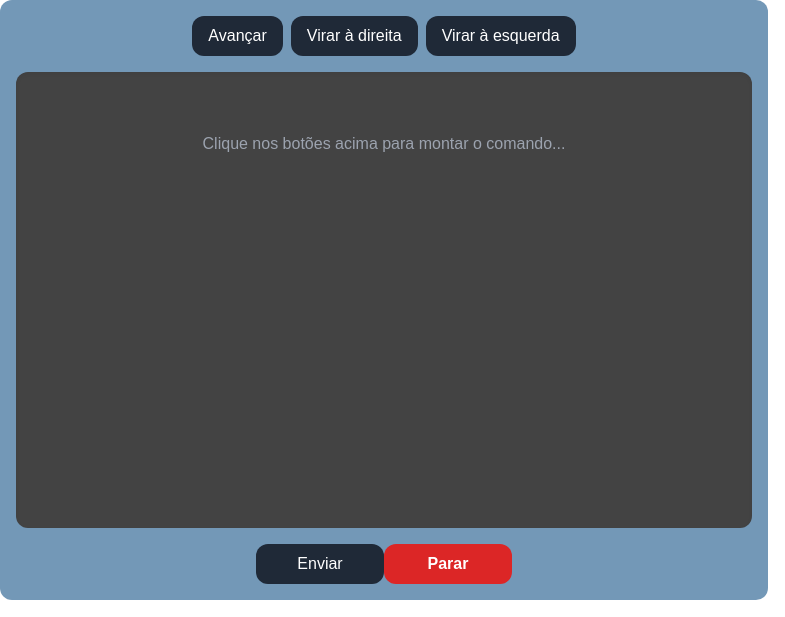
Test case: CommandPanel › adiciona blocos corretamente
The image size is (785, 617).
Note: Adiciona os três tipos de bloco
Click the button "Avançar" at point(238, 36), box [192,16,283,56]
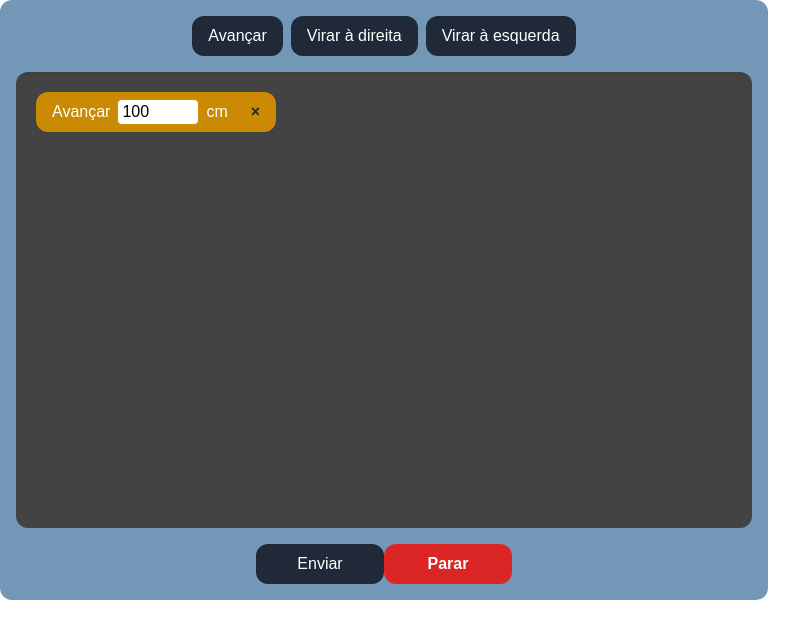
Click the button "Virar à direita" at point(354, 36), box [291,16,418,56]
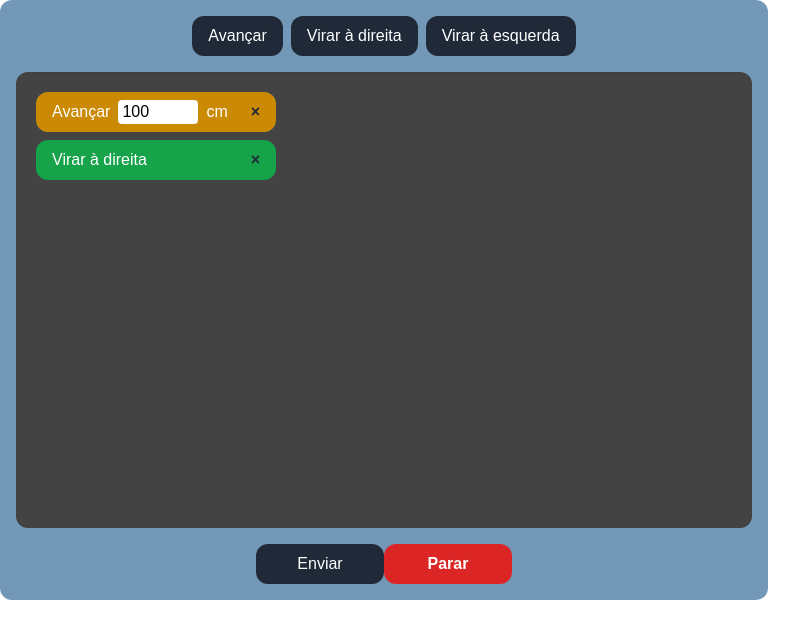
Click the button "Virar à esquerda" at point(501, 36), box [426,16,576,56]
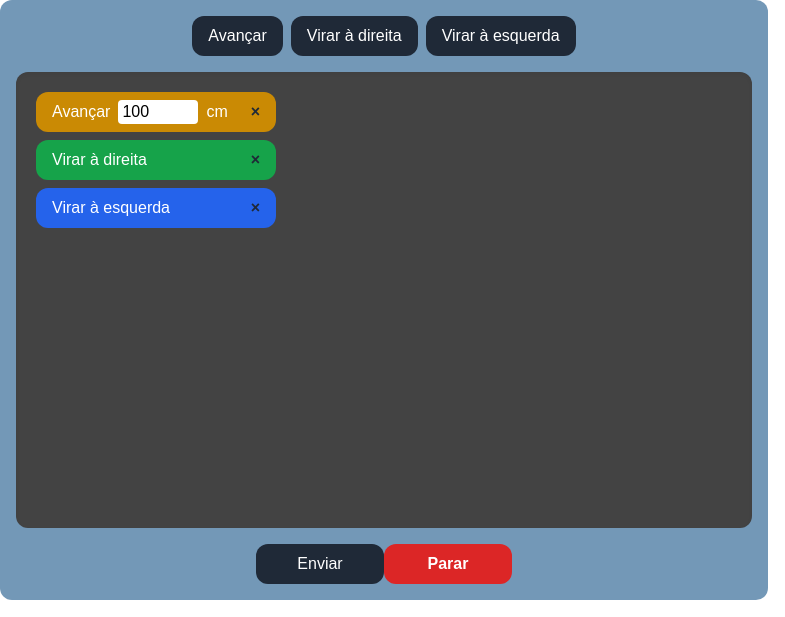
Expected: the element with test id "command-block-avancar-0" is shown, [36,92,276,132]
Expected: the element with test id "command-block-direita-1" is shown, [36,140,276,180]
Expected: the element with test id "command-block-esquerda-2" is shown, [36,188,276,228]
